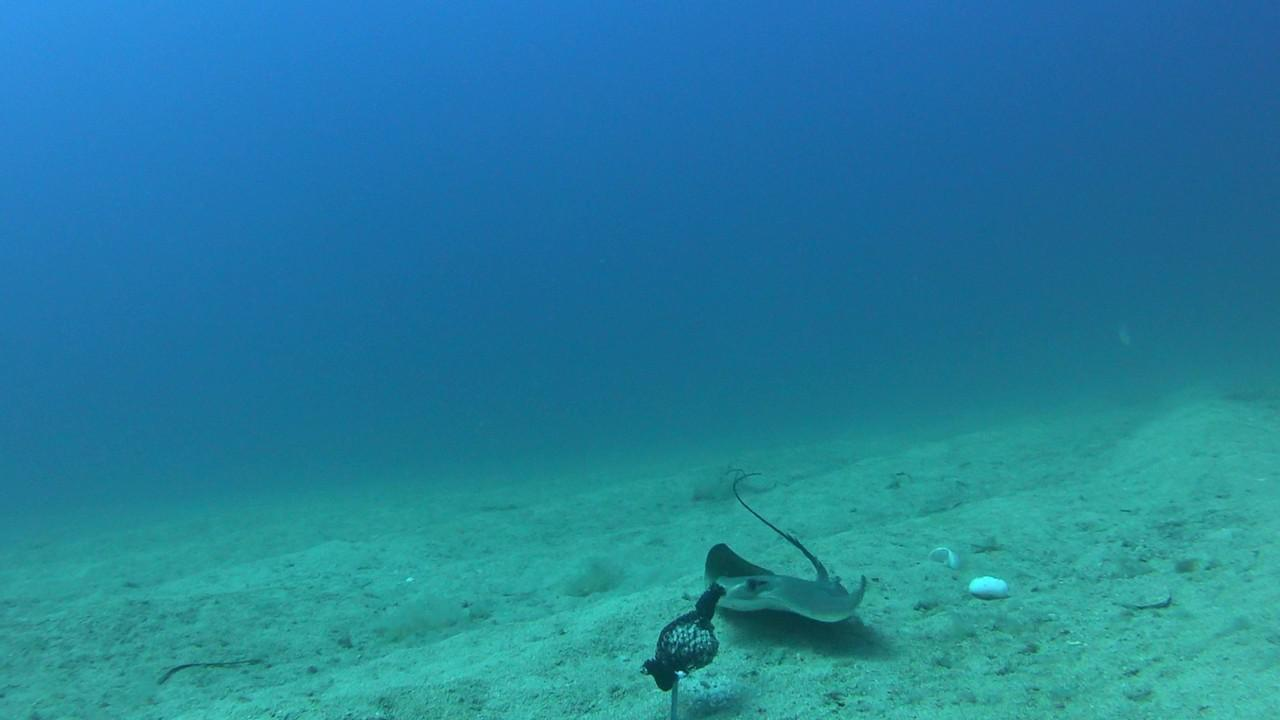myliobatis: (678, 458, 879, 621)
